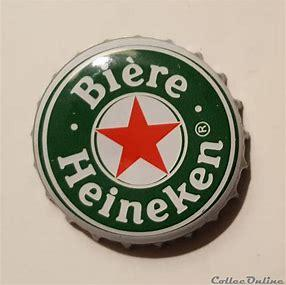metal: (33, 37, 249, 246)
